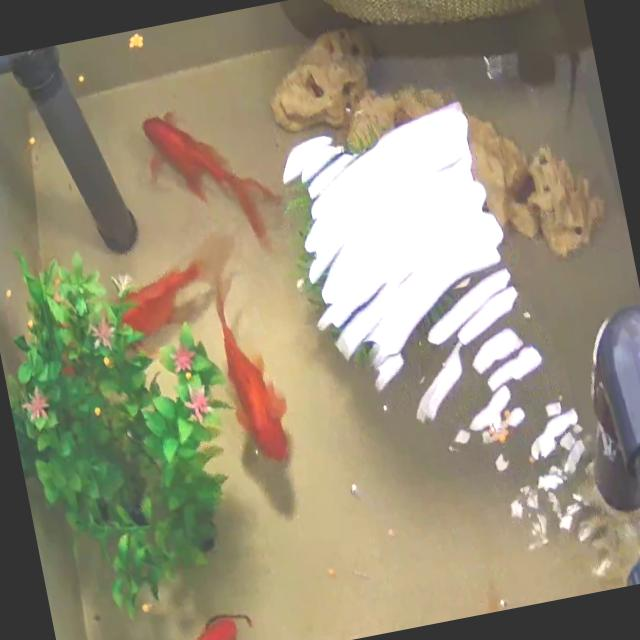fish: (138, 98, 288, 265), (204, 264, 299, 470), (107, 258, 215, 342), (130, 607, 256, 640)
